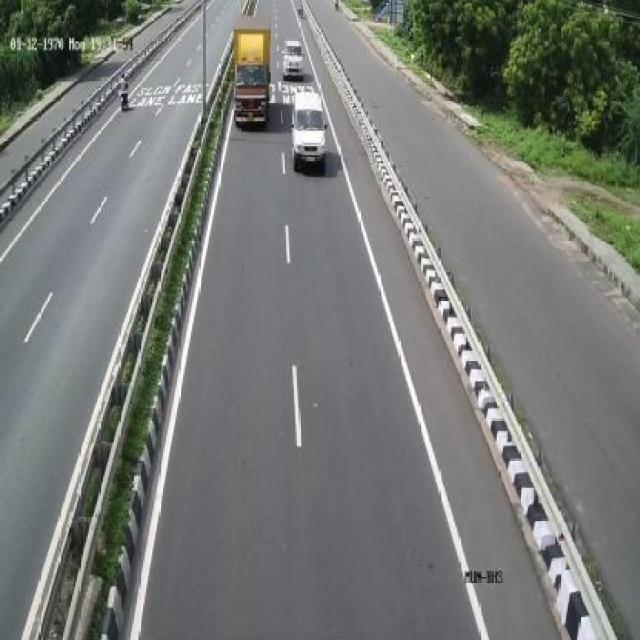car: (288, 69, 330, 177), (283, 34, 308, 83)
